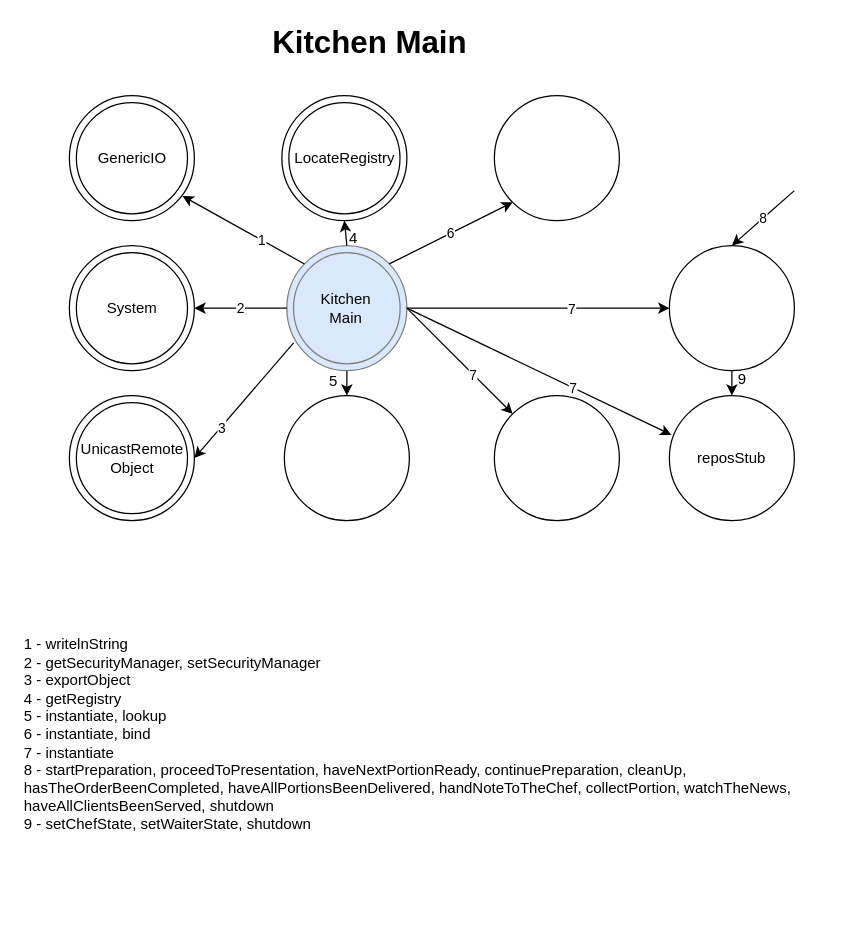
Some shapes in this 865 by 936 pixel diagram are drawn without their labels. Here are the shapes that lost their labels. From the top down, the centre of each, then its label:
At (x=556, y=157): "reg".
At (x=731, y=307): "kitchen".
At (x=346, y=457): "registry".
At (x=556, y=457): "kitchenStub".
